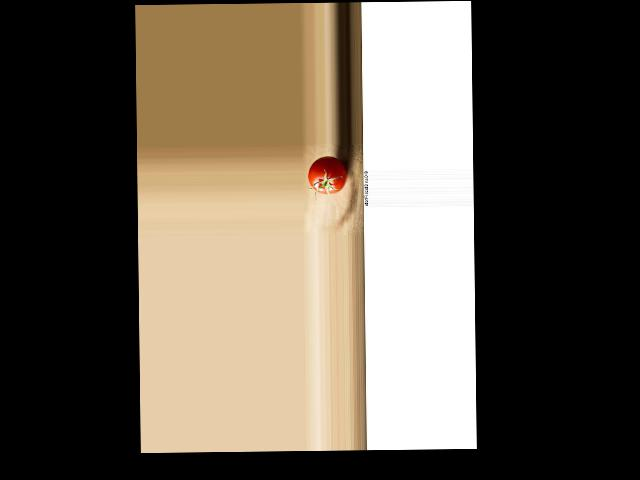tomato: (308, 156, 346, 195)
